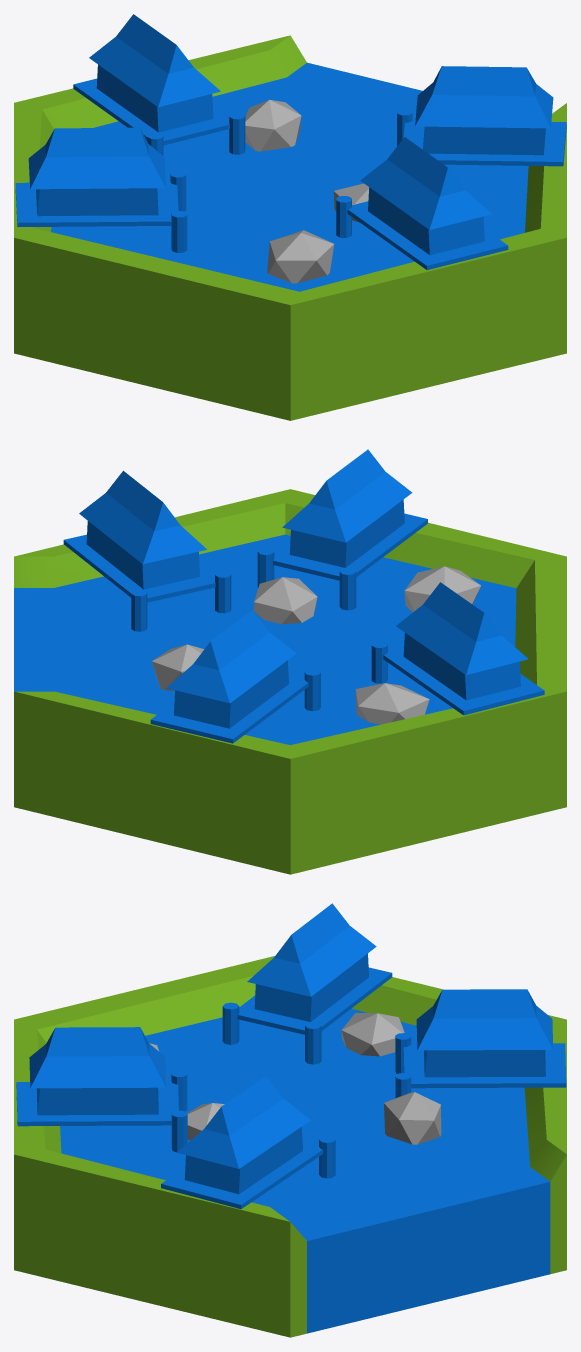
The model's file is Casas_Lago_4.fbx.
3 renders of one model, top to bottom at view 1: azimuth 30°, elevation 25°; view 2: azimuth 150°, elevation 25°; view 3: azimuth 270°, elevation 25°, orthographic.
Parts seen in each view (by area): view 1: Casas_Lago_4; view 2: Casas_Lago_4; view 3: Casas_Lago_4.
Boxes of the visible parts, bbox=[...] form: Casas_Lago_4: bbox=[14, 14, 566, 420]; Casas_Lago_4: bbox=[14, 449, 566, 874]; Casas_Lago_4: bbox=[14, 903, 566, 1337].
Size of the model in its own units: 200 by 67.29 by 173.
